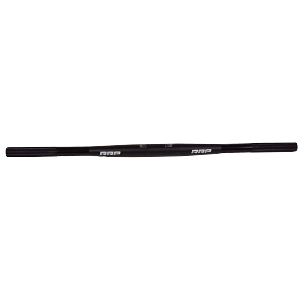straight_bar: (2, 121, 299, 172)
